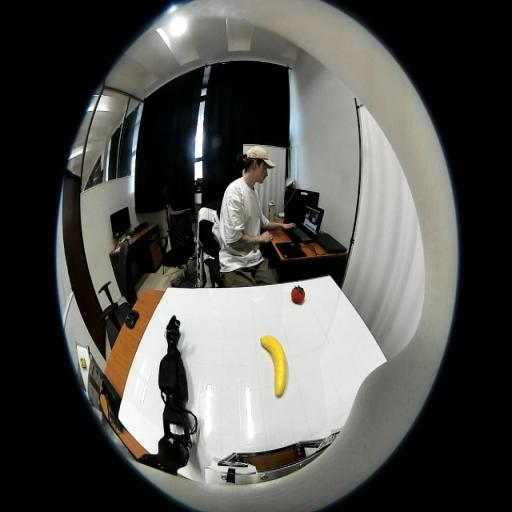Banana: (260, 335, 288, 398)
LeftHand: (166, 336, 176, 350)
Tomato: (291, 286, 305, 304)
